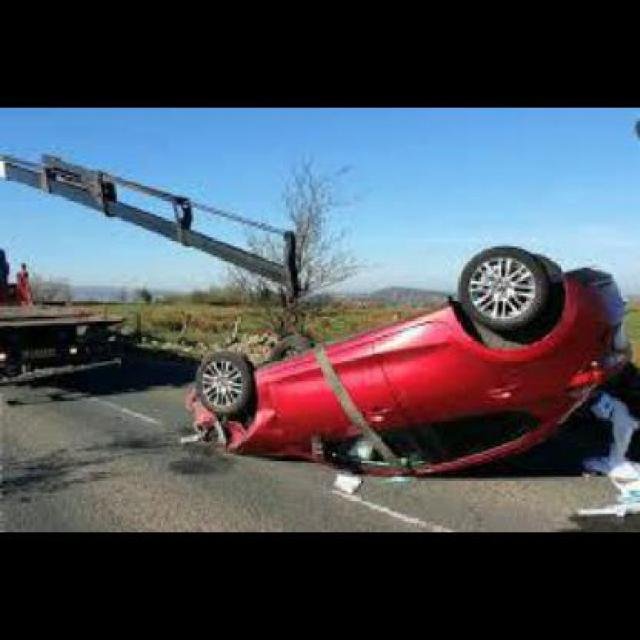accident: (183, 239, 639, 475)
